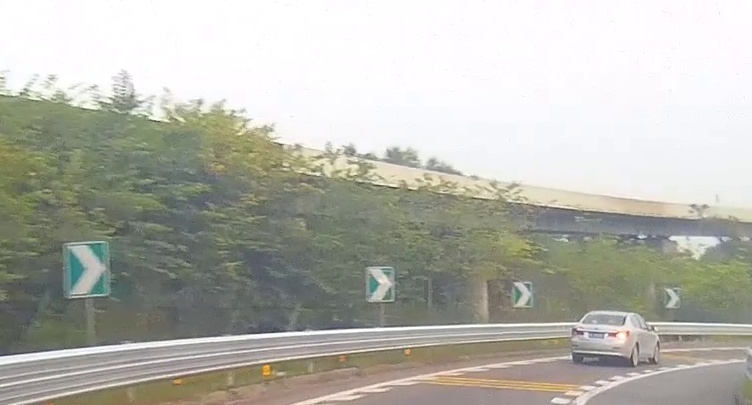L_light: (571, 328, 584, 336)
R_light: (608, 330, 630, 337)
T_light: (601, 313, 612, 316)
day-right: (570, 310, 632, 366)
